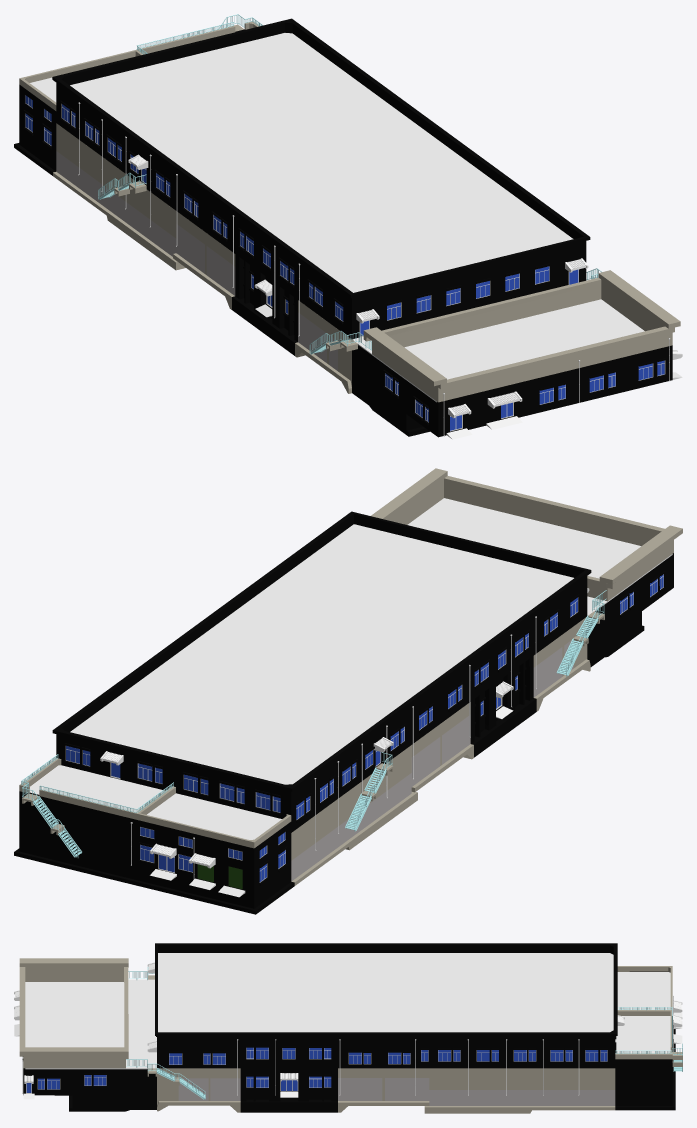
File: BD_净水间.FBX
3 renders of one model, top to bottom at view 1: azimuth 30°, elevation 25°; view 2: azimuth 150°, elevation 25°; view 3: azimuth 270°, elevation 25°, orthographic. The views are drawn at different scales.
Parts seen in each view (by area): view 1: BD_净水间; view 2: BD_净水间; view 3: BD_净水间.
Part boxes in pixels (x1,y1,x2,y2): BD_净水间: (14,14,682,439); BD_净水间: (14,468,682,914); BD_净水间: (14,943,682,1113).
Size of the model in its own units: 283 by 107 by 821.
